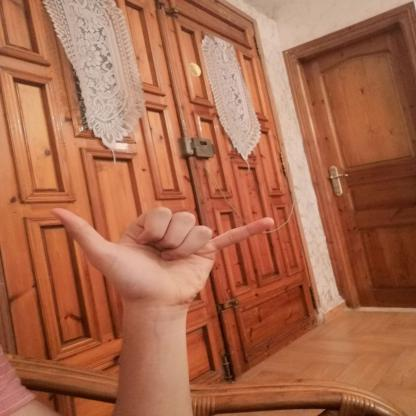YA: (40, 192, 290, 317)
